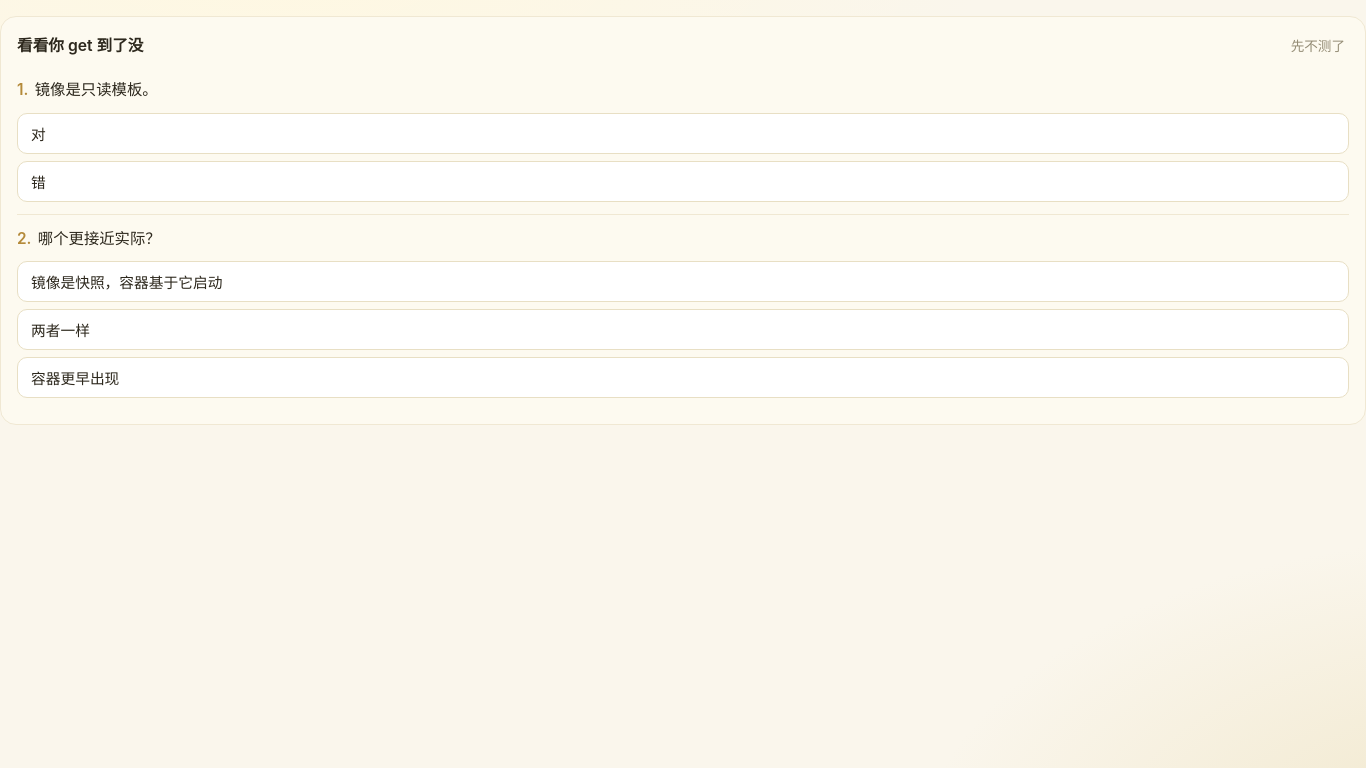
Test case: QuizPanel › reveals correct answer + explanation after picking (gentle, no red ✗)
# answer Q1 correctly ("对")
Click the button "对" at coordinates (38, 135), box 17,113 -> 1349,154
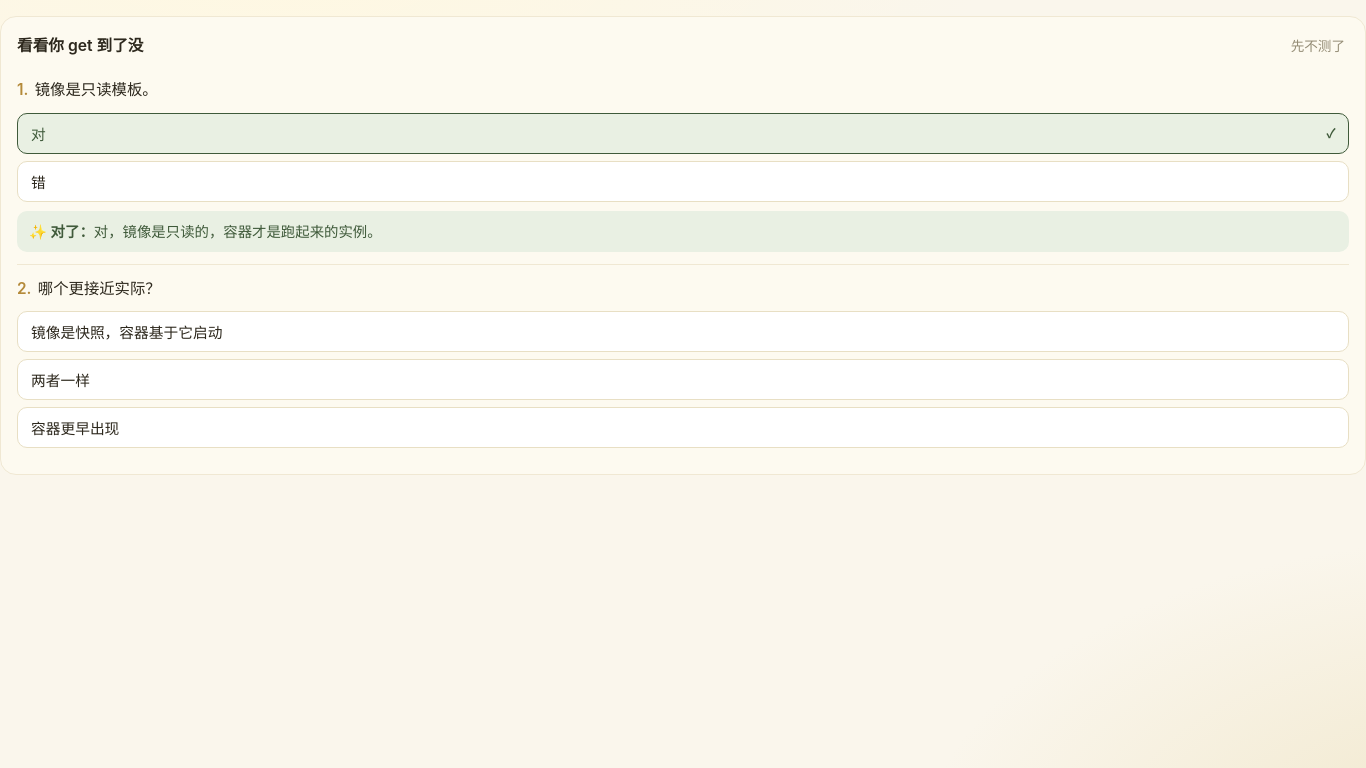
Check: the text "✨ 对了：对，镜像是只读的，容器才是跑起来的实例。" is shown, box 17,211 -> 1349,252
